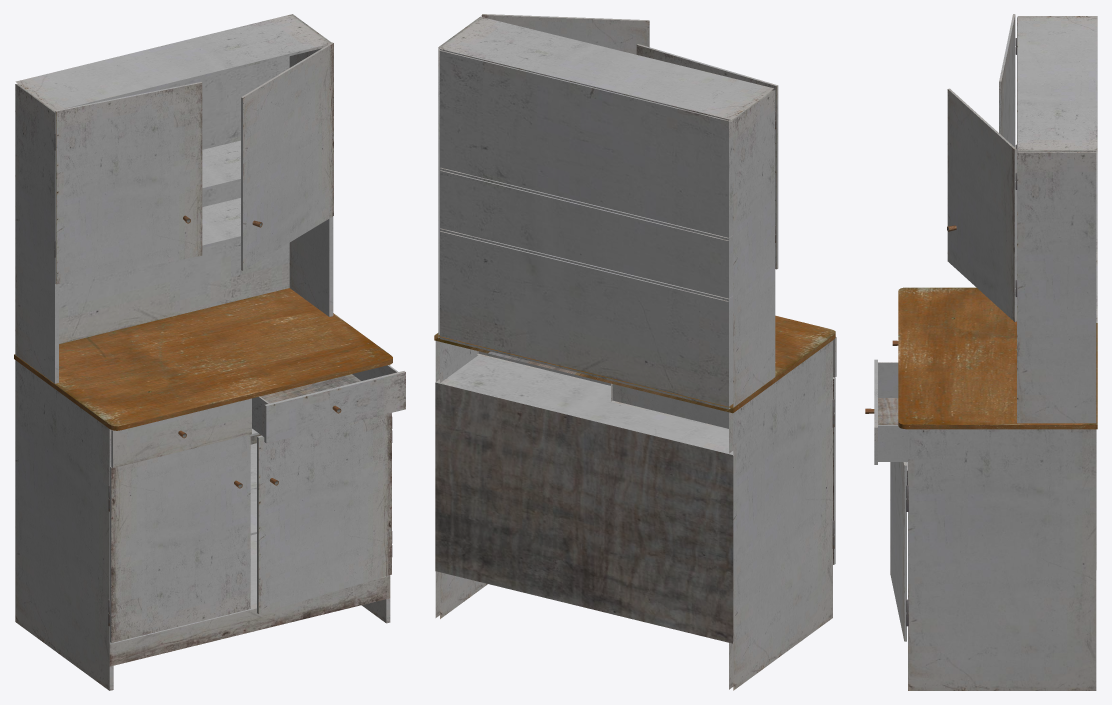
File: kitchen_set.FBX
The picture shows the model from 3 angles, left to right: view 1: azimuth 30°, elevation 25°; view 2: azimuth 150°, elevation 25°; view 3: azimuth 270°, elevation 25°; orthographic projection. The views are drawn at different scales.
Parts seen in each view (by area): view 1: kitchen_set, kitchen_set_door_ul, kitchen_set_door_bl, kitchen_set_door_br, kitchen_set_door_ur, kitchen_set_door_mr, kitchen_set_door_ml; view 2: kitchen_set, kitchen_set_door_ur, kitchen_set_door_ml, kitchen_set_door_ul, kitchen_set_door_mr; view 3: kitchen_set, kitchen_set_door_ur, kitchen_set_door_mr, kitchen_set_door_br, kitchen_set_door_ul.
Part boxes in pixels (x1,y1,x2,y2): kitchen_set: [14, 14, 392, 690]; kitchen_set_door_ul: [55, 82, 202, 284]; kitchen_set_door_bl: [110, 434, 250, 642]; kitchen_set_door_br: [257, 413, 391, 613]; kitchen_set_door_ur: [241, 42, 333, 270]; kitchen_set_door_mr: [252, 365, 405, 443]; kitchen_set_door_ml: [111, 398, 251, 467]; kitchen_set: [434, 16, 835, 690]; kitchen_set_door_ur: [481, 14, 649, 54]; kitchen_set_door_ml: [611, 337, 836, 430]; kitchen_set_door_ul: [636, 44, 778, 269]; kitchen_set_door_mr: [477, 351, 610, 387]; kitchen_set: [898, 16, 1097, 690]; kitchen_set_door_ur: [947, 88, 1016, 321]; kitchen_set_door_mr: [865, 359, 907, 464]; kitchen_set_door_br: [890, 462, 906, 641]; kitchen_set_door_ul: [999, 14, 1015, 147].
Bounding box in the file's own units: 152 × 278 × 108.
